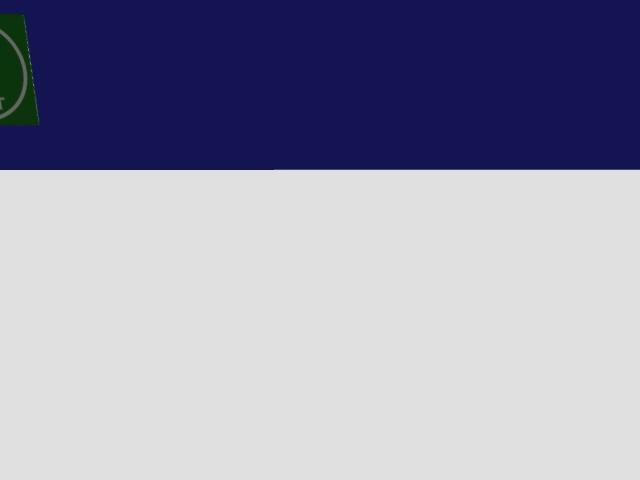fast: (0, 14, 38, 125)
